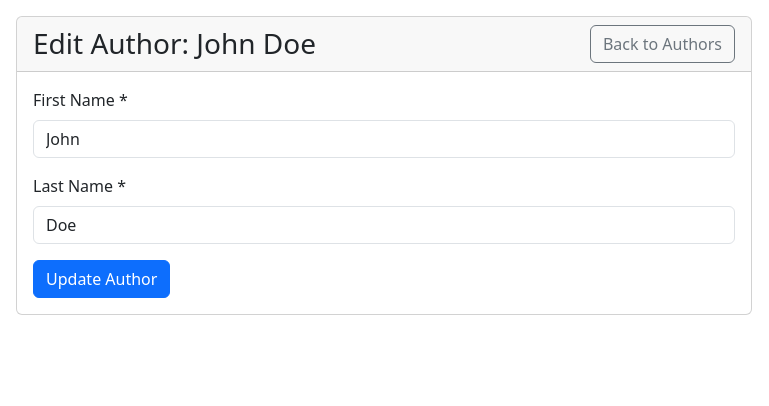
Test: AuthorEdit › handles network errors during update gracefully
Click the button "Update Author" at [102, 279], box [33, 260, 170, 298]
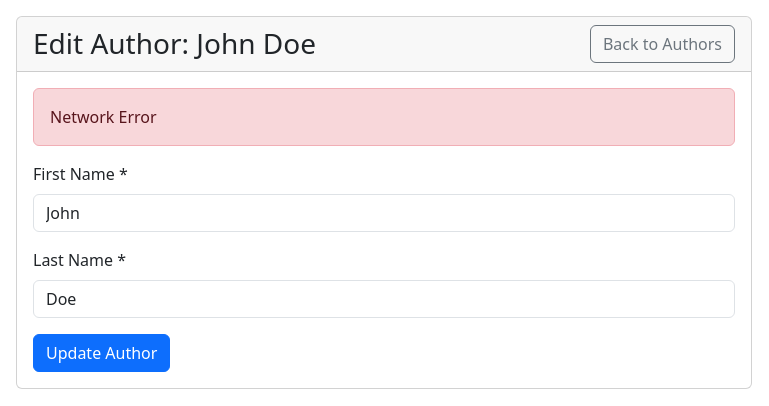
Expected: the text "Network Error" is shown, [33, 88, 735, 146]
